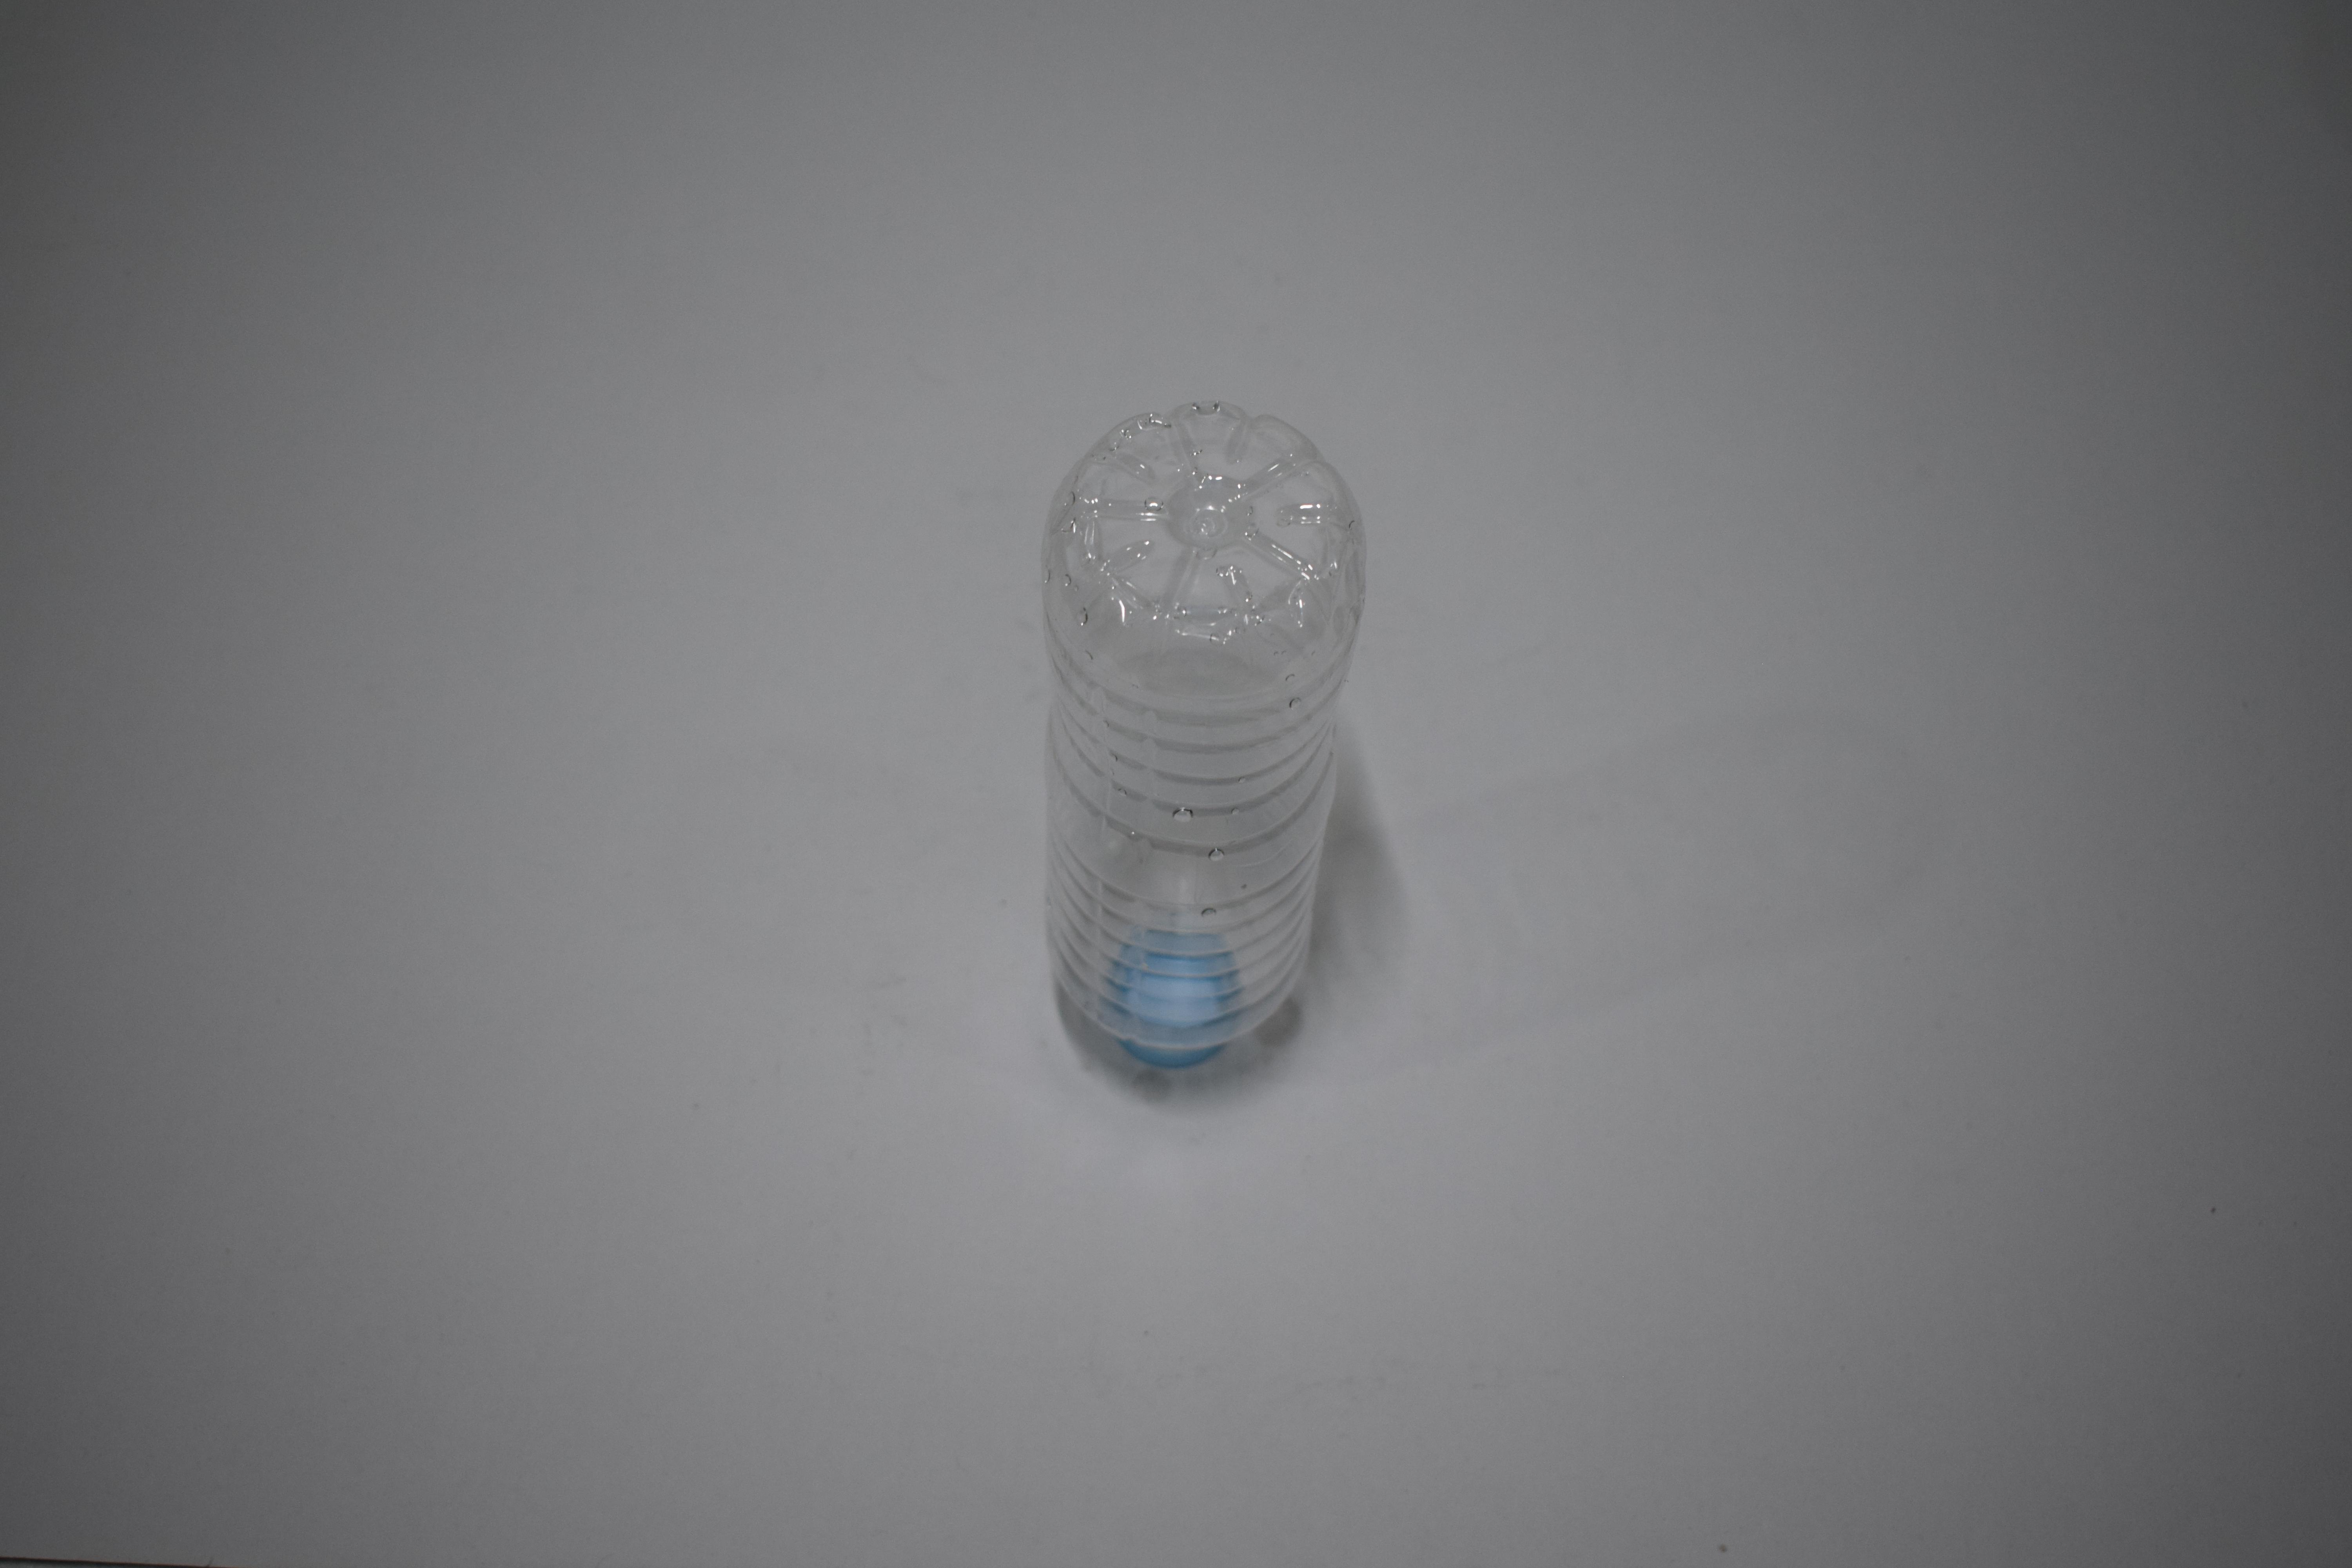bottle: (0, 388, 191, 1081)
